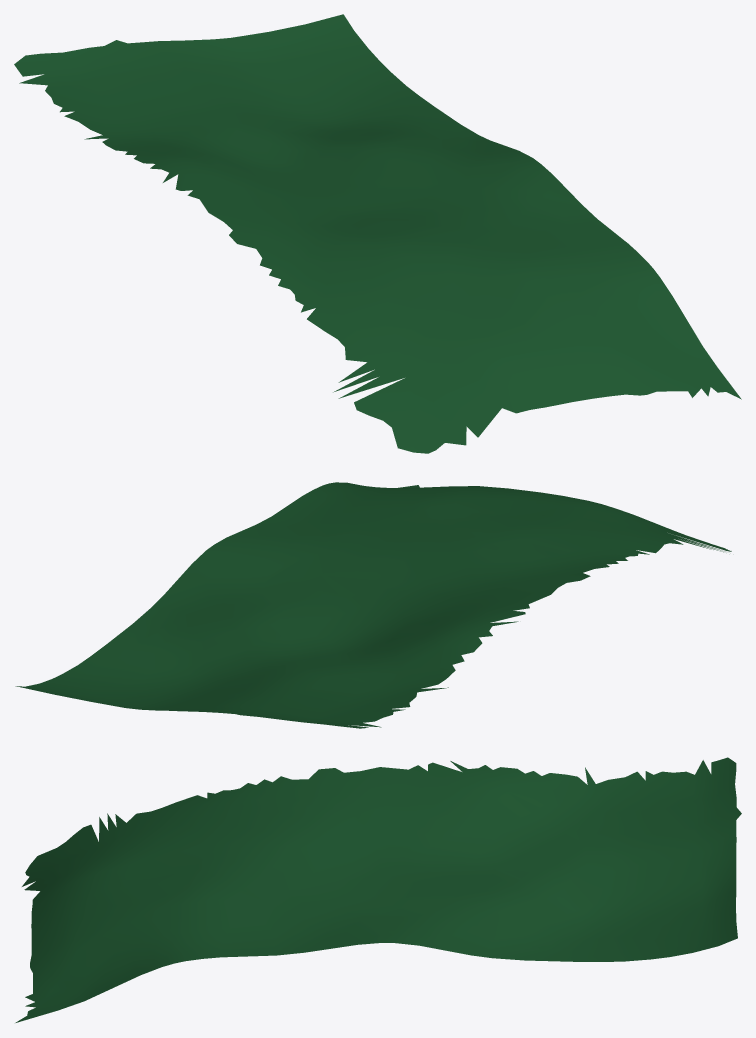
File: payo_land_xm5_y0_lod1.glb
3 renders of one model, top to bottom at view 1: azimuth 30°, elevation 25°; view 2: azimuth 150°, elevation 25°; view 3: azimuth 270°, elevation 25°, orthographic. The views are drawn at different scales.
Parts seen in each view (by area): view 1: payo_land_xm5_y0; view 2: payo_land_xm5_y0; view 3: payo_land_xm5_y0.
Part boxes in pixels (x1,y1,x2,y2): payo_land_xm5_y0: (14,14,741,453); payo_land_xm5_y0: (15,482,731,728); payo_land_xm5_y0: (15,757,741,1022).
Size of the model in its own units: 136 by 47.68 by 264.
